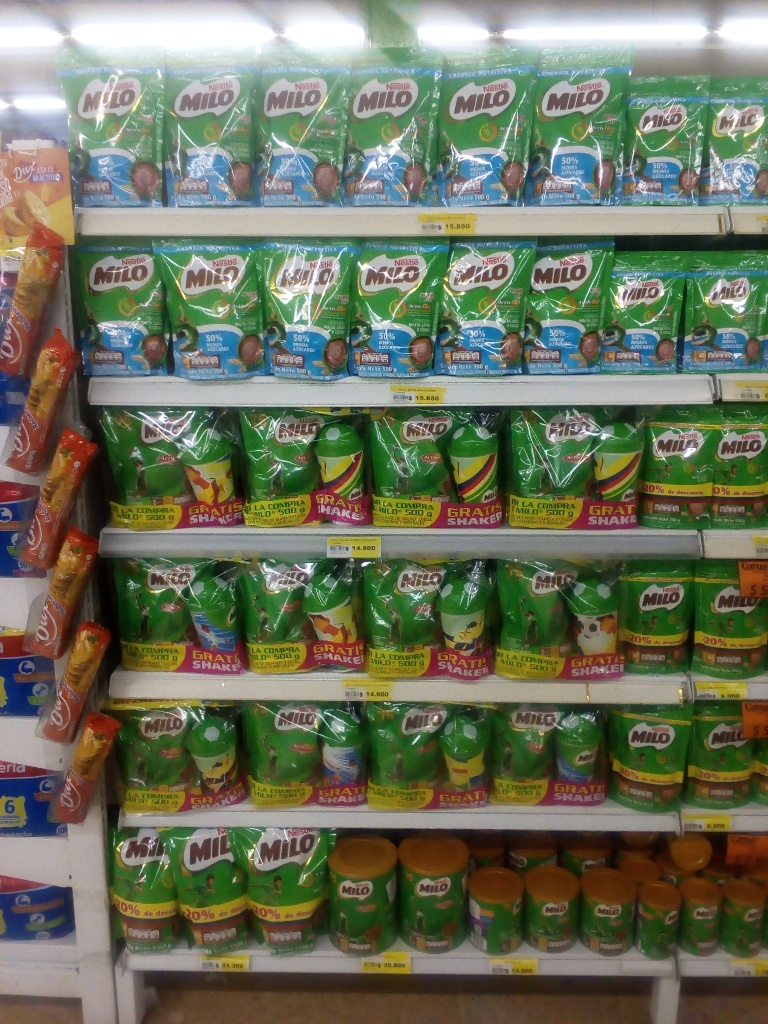COL0170203DYP50000: (494, 552, 593, 660)
COL0170203LAT20000: (721, 883, 762, 959)
COL0170203LAT40000: (579, 863, 636, 960)
